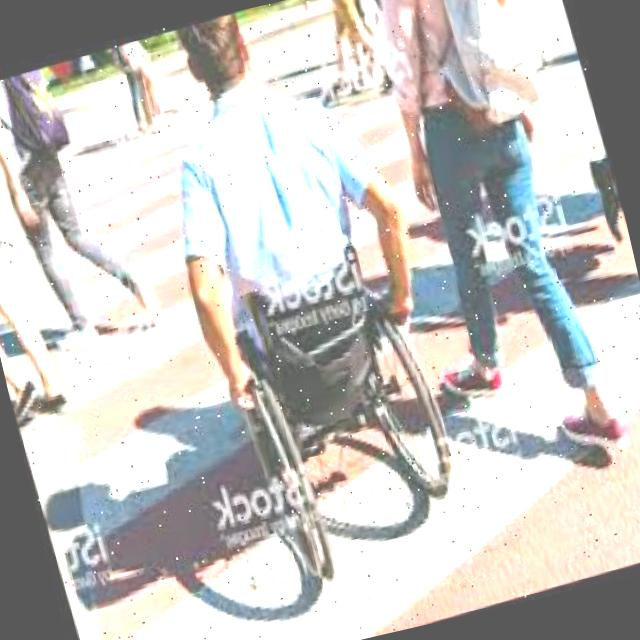Person: (119, 0, 494, 597), (330, 0, 628, 507)
